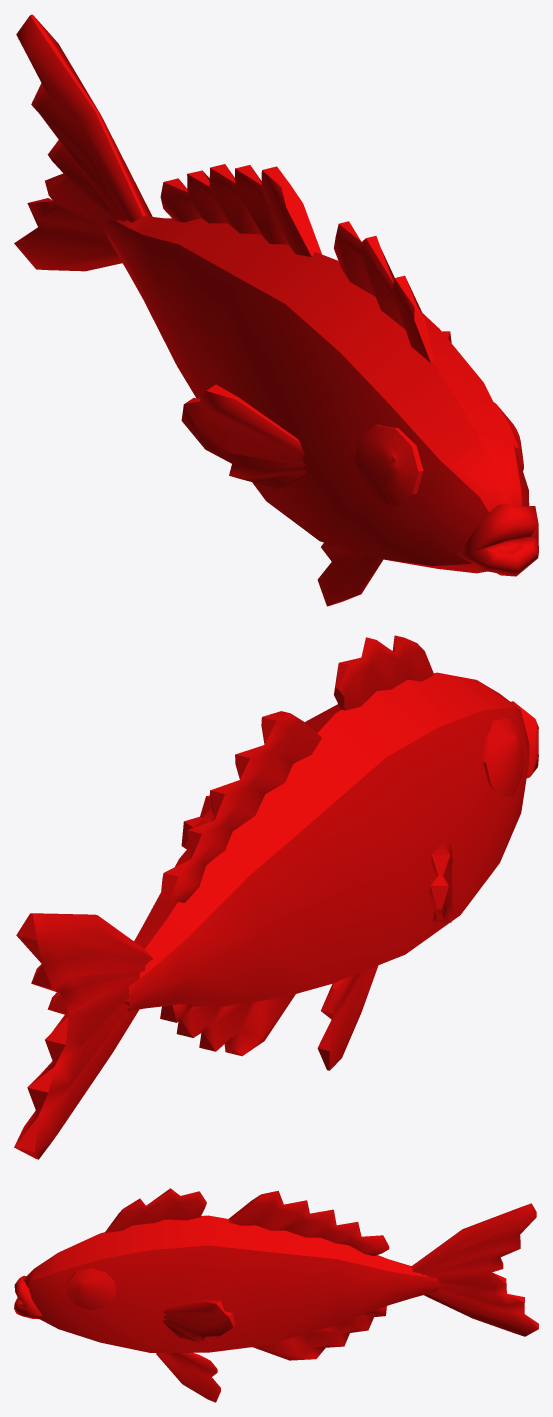
The picture shows the model from 3 angles, top to bottom: view 1: azimuth 30°, elevation 25°; view 2: azimuth 150°, elevation 25°; view 3: azimuth 270°, elevation 25°; orthographic projection. The views are drawn at different scales.
Parts seen in each view (by area): view 1: Fish_HorseMackerel; view 2: Fish_HorseMackerel; view 3: Fish_HorseMackerel.
Part boxes in pixels (x1,y1,x2,y2): Fish_HorseMackerel: (14,14,538,606); Fish_HorseMackerel: (14,635,538,1159); Fish_HorseMackerel: (14,1188,538,1402).
Bounding box in the file's own units: 0.1202 × 0.1736 × 0.3879.
